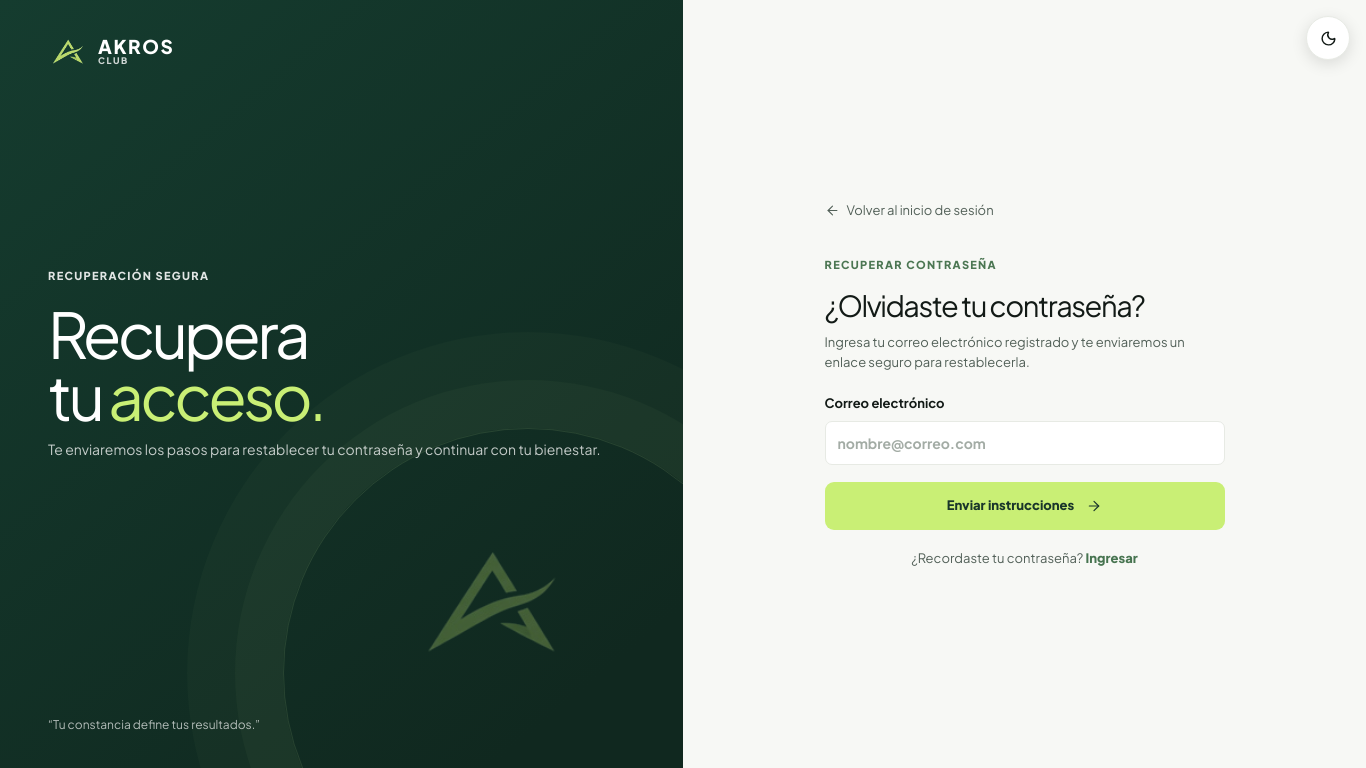
Test: TSK-FE-33: /forgot-password rechaza correos inválidos mostrando error en la UI
// Escribir correo con formato inválido
Type "correo-invalido" into the field at (1024, 443), box [824, 421, 1224, 465]
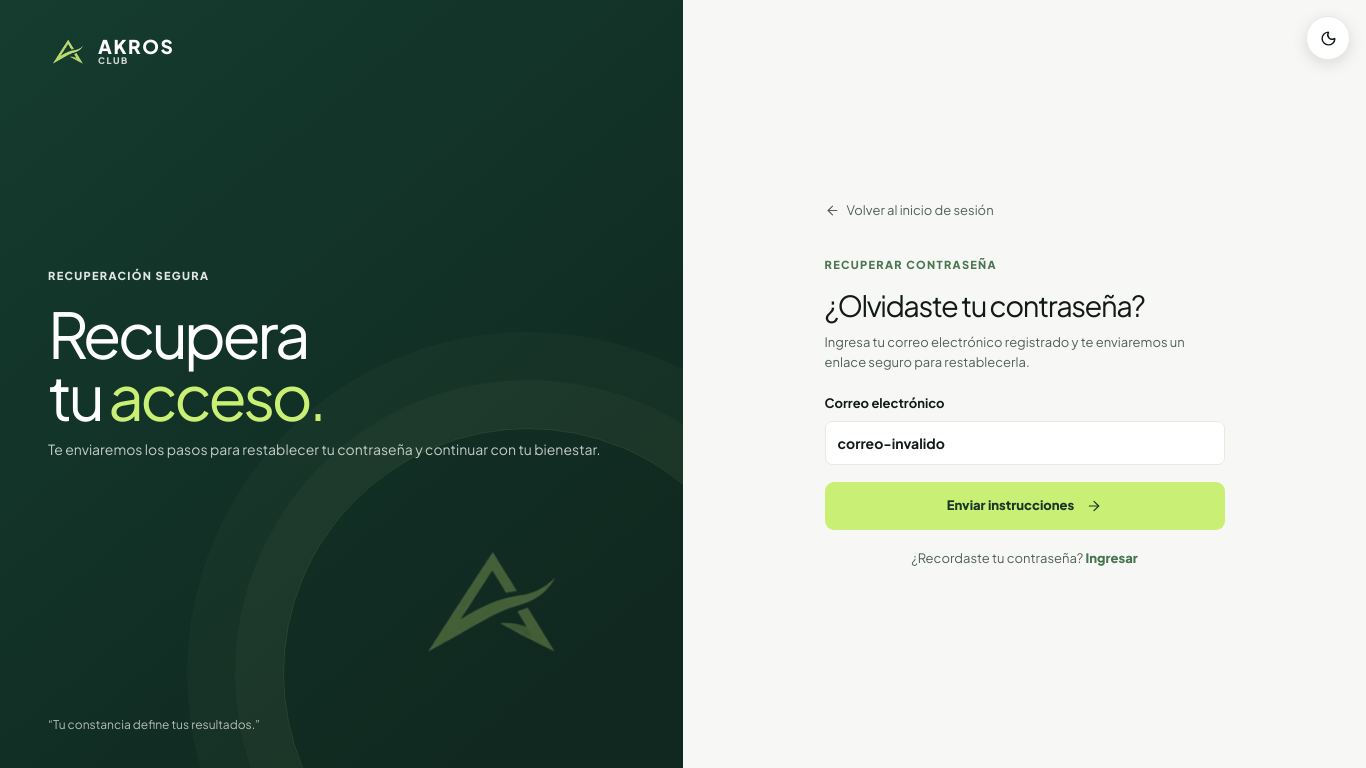
Click the button "Enviar instrucciones" at (1024, 506), box [824, 482, 1224, 530]
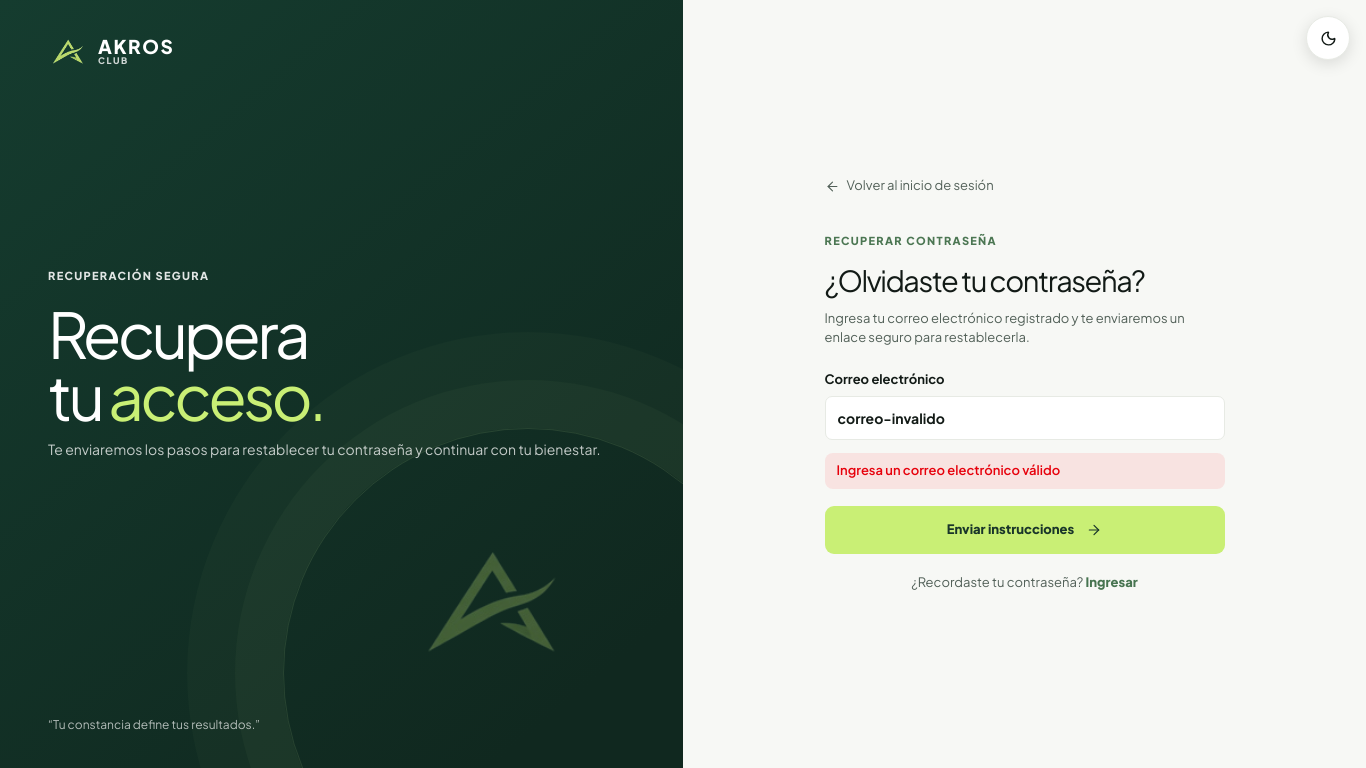
Result: the message "Ingresa un correo electrónico válido" is shown at [824, 453, 1224, 489]
